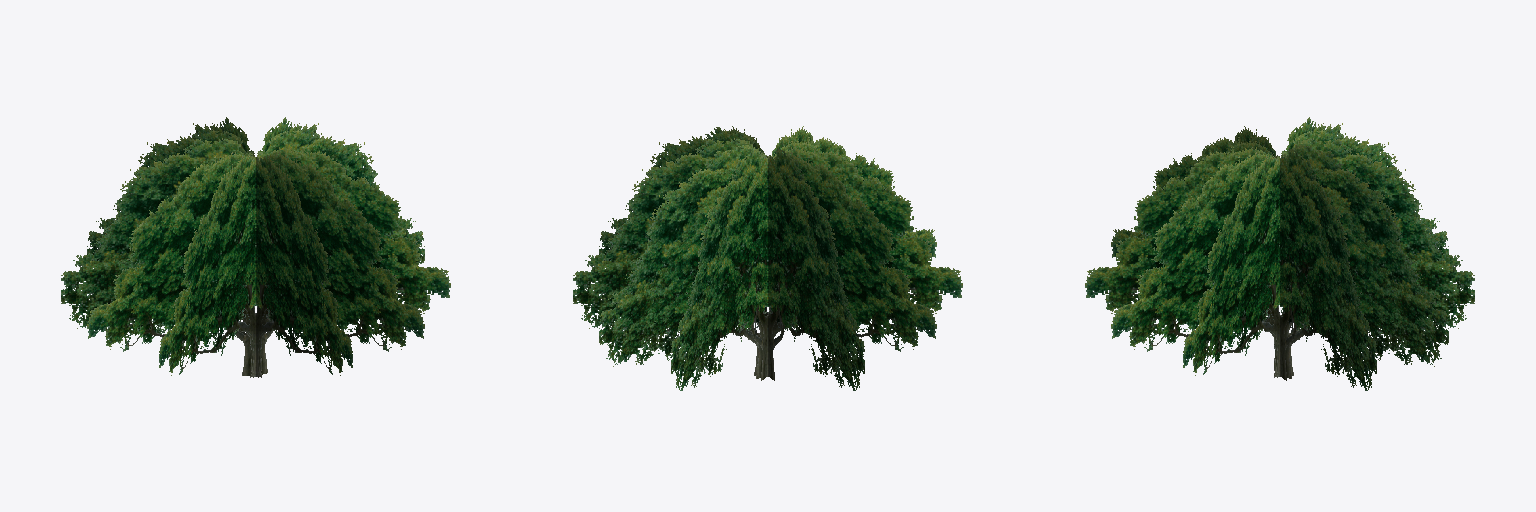
The picture shows the model from 3 angles: view 1: azimuth 30°, elevation 25°; view 2: azimuth 150°, elevation 25°; view 3: azimuth 270°, elevation 25°; orthographic projection.
Parts seen in each view (by area): view 1: arbol.009; view 2: arbol.009; view 3: arbol.009.
Boxes of the visible parts, x1,y1,x2,y2 form: arbol.009: [61, 117, 450, 377]; arbol.009: [573, 126, 962, 390]; arbol.009: [1085, 117, 1474, 390].
Bounding box in the file's own units: 22 × 15 × 22.
Materials: 6 (1 with a texture image).